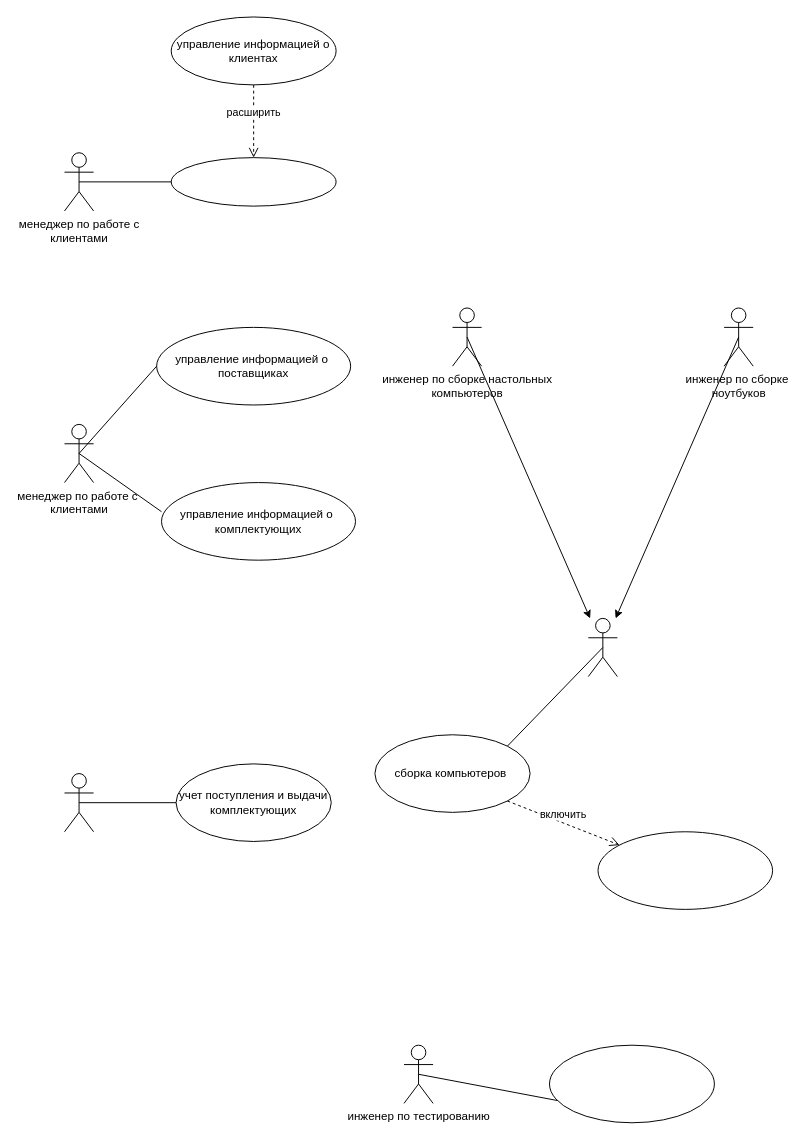
The diagram is 808 pixels wide and 1141 high, and some of its shapes have lost their labels. The shapes that lost their labels are listed below. From the top down, each one's centre as x and y in pixels, then its label:
the point at 253,181: работа с заказом
the point at 602,647: инженер по сборке
the point at 79,802: завскладом
the point at 685,870: требование необходимых комплектующих
the point at 631,1083: тестирование компьютеров
